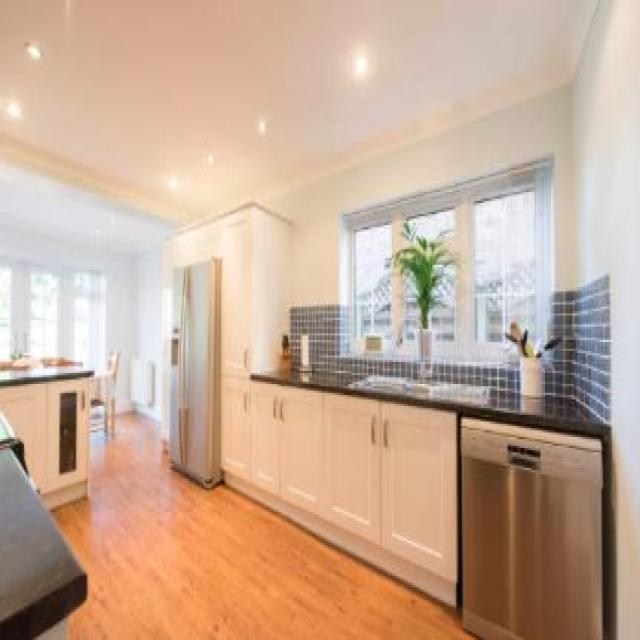dishwasher: (459, 412, 600, 638)
